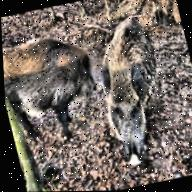boar: (84, 11, 181, 169), (2, 28, 109, 153)
